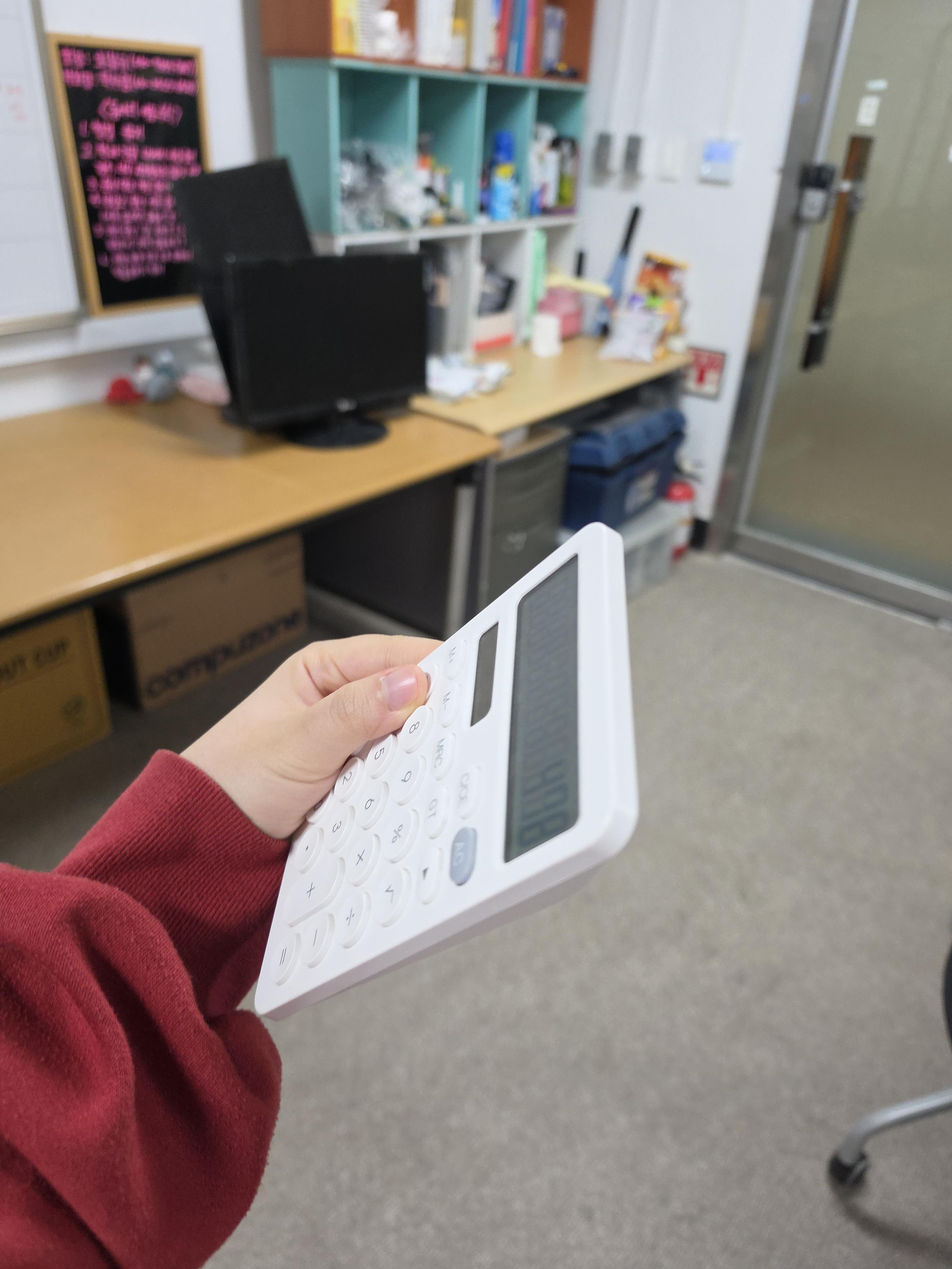calculator: (254, 521, 640, 1020)
